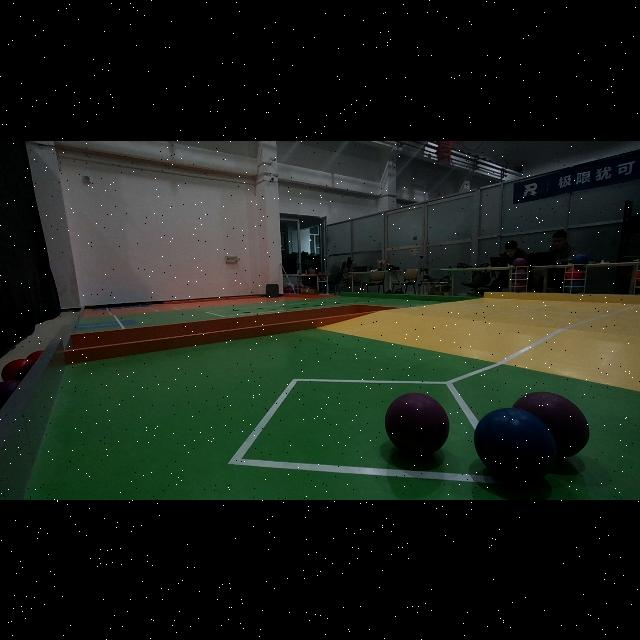B: (474, 406, 556, 484)
P: (507, 388, 591, 462), (385, 392, 449, 456)
